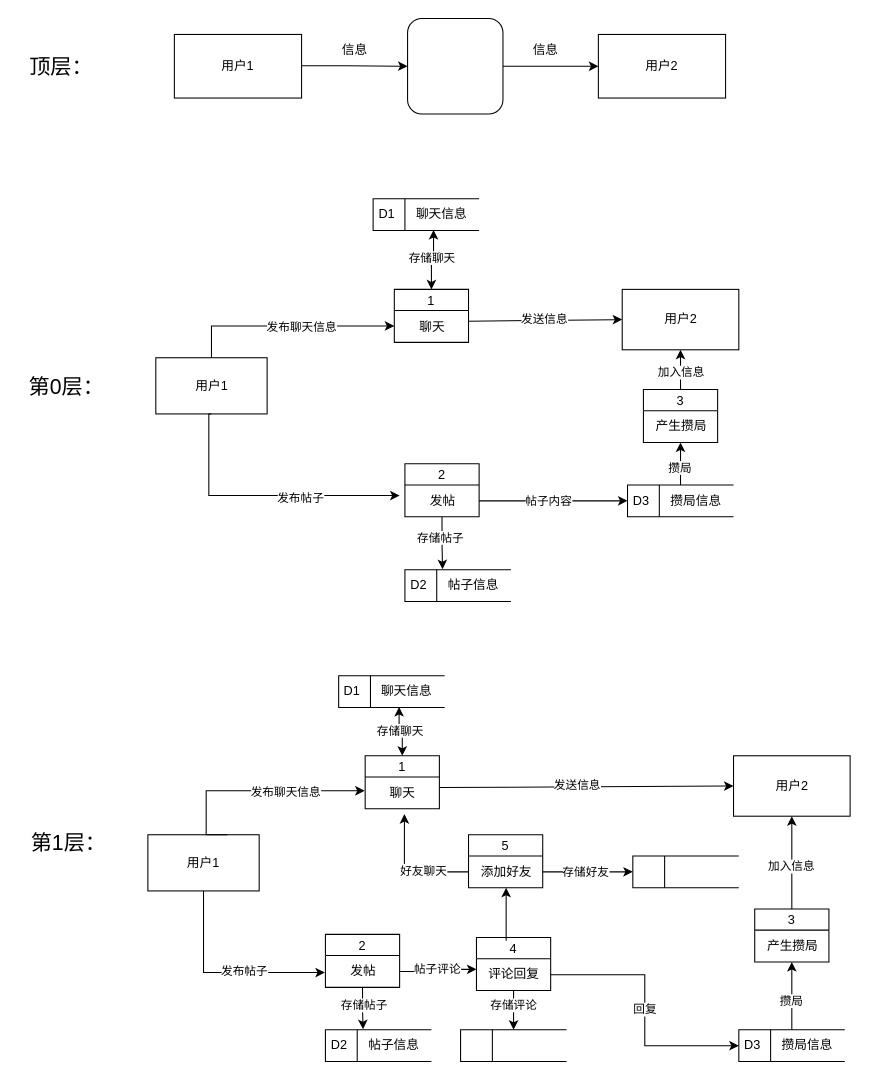
This 869x1080 diagram has some shape labels left out. Each missing label, with the centre of its shape:
"D4 评论信息" goes at pixel 513 1045.
"D5 好友信息" goes at pixel 685 871.
"爱游小程序" goes at pixel 455 65.
